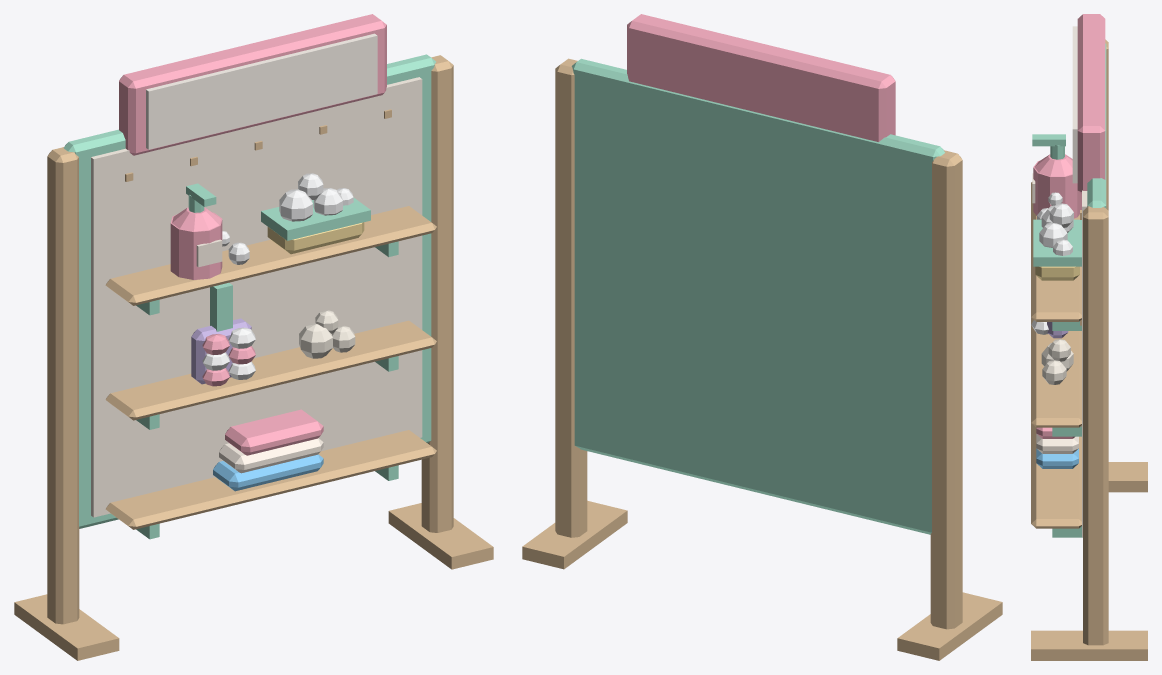
File: CleanACat_Prop_ToolsBoard.fbx
The picture shows the model from 3 angles, left to right: view 1: azimuth 30°, elevation 25°; view 2: azimuth 150°, elevation 25°; view 3: azimuth 270°, elevation 25°; orthographic projection. The views are drawn at different scales.
Parts seen in each view (by area): view 1: CleanACat_Prop_ToolsBoard, CleanACat_Prop_ToolsBoard_Screen, CleanACat_Prop_ToolsBoard_Display_BubbleSoap, CleanACat_Prop_ToolsBoard_Decor, CleanACat_Prop_ToolsBoard_Display_ProBrush; view 2: CleanACat_Prop_ToolsBoard; view 3: CleanACat_Prop_ToolsBoard, CleanACat_Prop_ToolsBoard_Display_BubbleSoap, CleanACat_Prop_ToolsBoard_Decor, CleanACat_Prop_ToolsBoard_Display_ProBrush, CleanACat_Prop_ToolsBoard_Screen.
Part boxes in pixels (x1=…): CleanACat_Prop_ToolsBoard: x1=14, y1=14, x2=493, y2=660; CleanACat_Prop_ToolsBoard_Screen: x1=146, y1=33, x2=377, y2=149; CleanACat_Prop_ToolsBoard_Display_BubbleSoap: x1=170, y1=173, x2=370, y2=279; CleanACat_Prop_ToolsBoard_Decor: x1=213, y1=409, x2=323, y2=491; CleanACat_Prop_ToolsBoard_Display_ProBrush: x1=191, y1=282, x2=355, y2=386; CleanACat_Prop_ToolsBoard: x1=522, y1=14, x2=1002, y2=660; CleanACat_Prop_ToolsBoard: x1=1031, y1=14, x2=1147, y2=660; CleanACat_Prop_ToolsBoard_Display_BubbleSoap: x1=1032, y1=134, x2=1081, y2=280; CleanACat_Prop_ToolsBoard_Decor: x1=1036, y1=427, x2=1078, y2=468; CleanACat_Prop_ToolsBoard_Display_ProBrush: x1=1031, y1=320, x2=1073, y2=384; CleanACat_Prop_ToolsBoard_Screen: x1=1072, y1=26, x2=1077, y2=183.
Size of the model in its own units: 4.18 by 5.17 by 1.1.
1 material, 1 textured.
